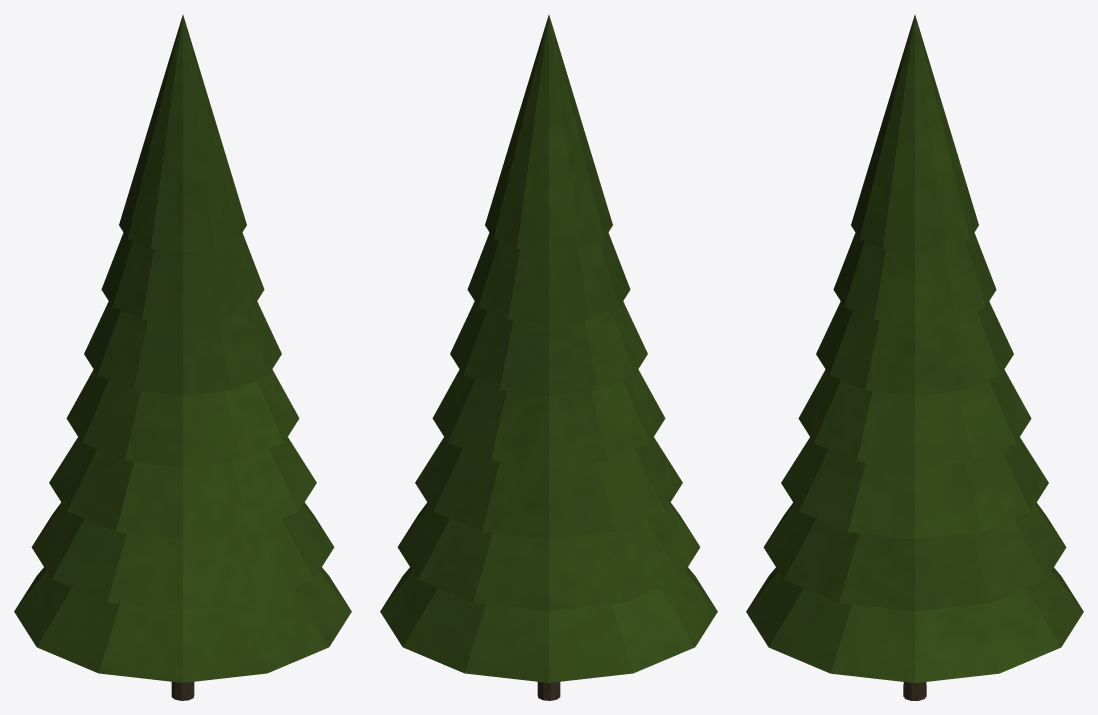
File: park_conifer.glb
The picture shows the model from 3 angles, left to right: view 1: azimuth 30°, elevation 25°; view 2: azimuth 150°, elevation 25°; view 3: azimuth 270°, elevation 25°; orthographic projection.
Parts seen in each view (by area): view 1: park_conifer; view 2: park_conifer; view 3: park_conifer.
Boxes of the visible parts, x1=… form: park_conifer: x1=14, y1=15, x2=351, y2=700; park_conifer: x1=380, y1=15, x2=717, y2=700; park_conifer: x1=746, y1=15, x2=1083, y2=700.
Size of the model in its own units: 2.9 by 6.46 by 2.9.
2 materials, 2 textured.
